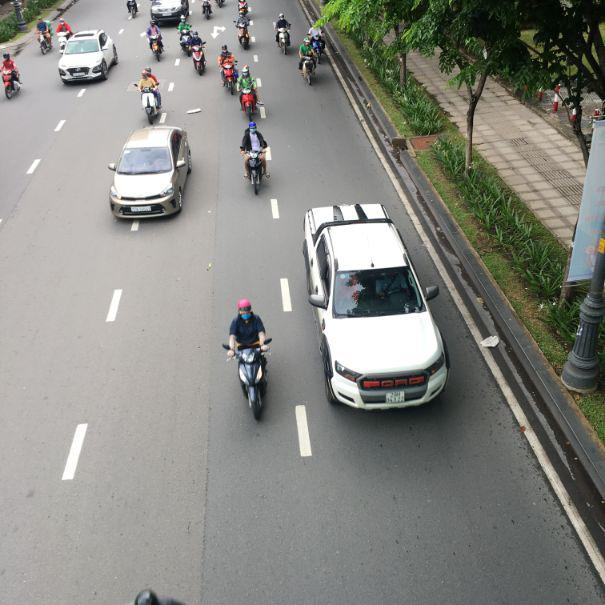car: (302, 202, 447, 409), (107, 124, 194, 221), (56, 30, 118, 84), (148, 0, 187, 26)
motorbike: (223, 337, 281, 425), (242, 148, 266, 197), (235, 84, 262, 123), (140, 89, 166, 129), (237, 18, 253, 49), (191, 46, 206, 75), (300, 57, 316, 84), (277, 29, 292, 56)
